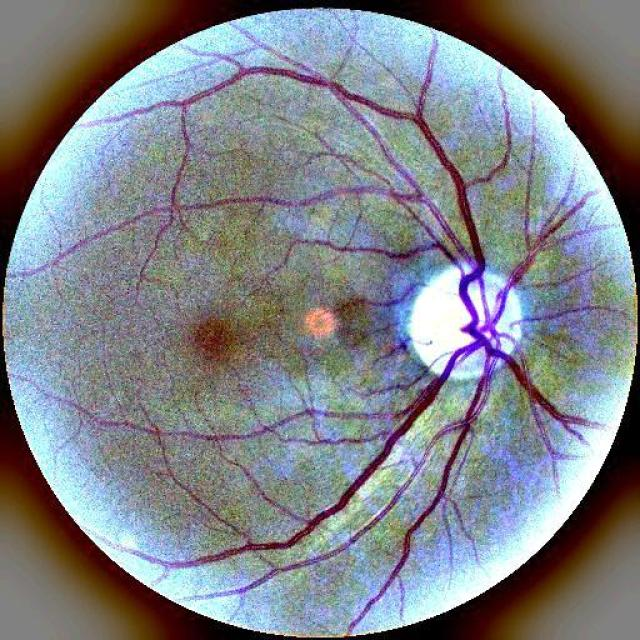Macula: (187, 314, 248, 371)
Nerves: (165, 61, 581, 576)
Optic Disk: (380, 253, 546, 401)
